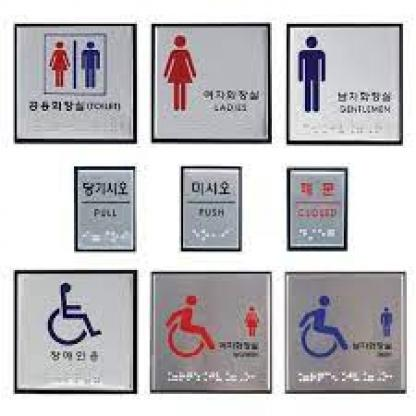toilet: (46, 280, 103, 349), (48, 35, 104, 93), (164, 31, 197, 113), (298, 36, 328, 118)
